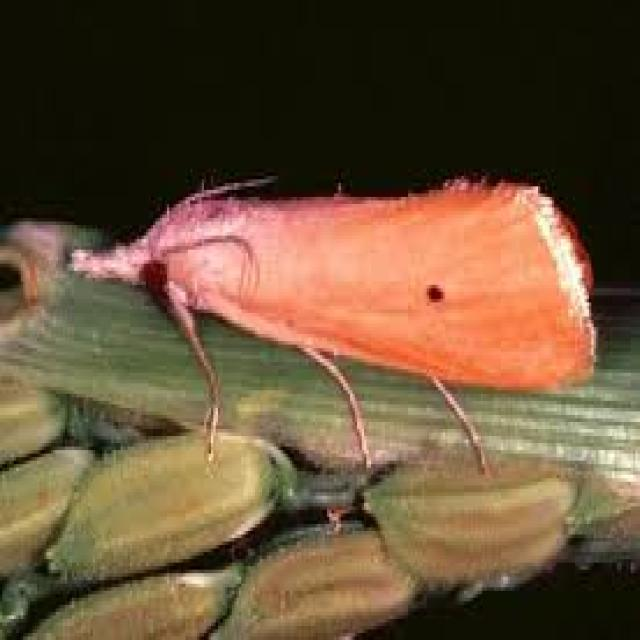yellow-stem-borer: (80, 142, 610, 474)
